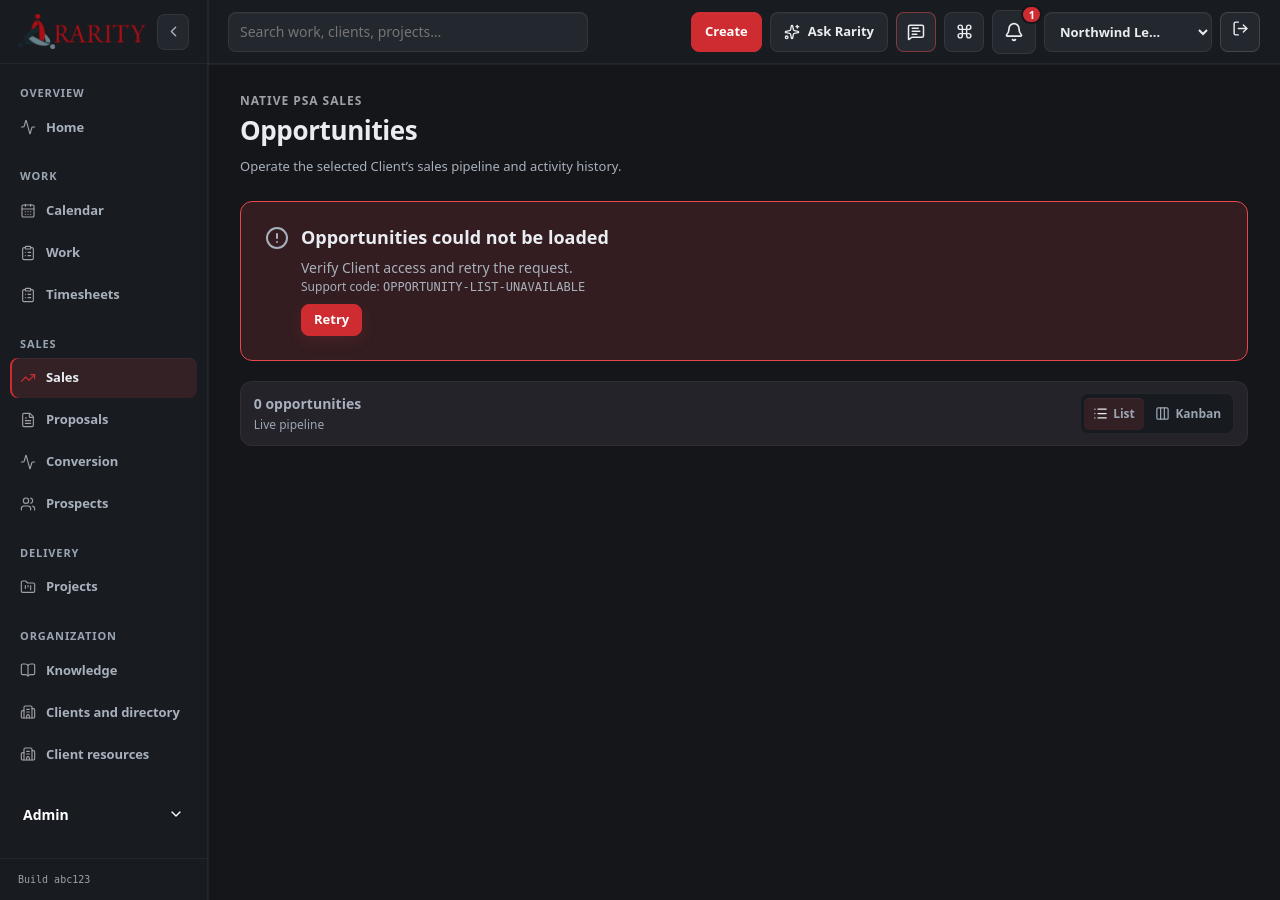
App › navigates to the reviewed conversion workflow
The image size is (1280, 900).
Click the link "Conversion" at point(69, 461), box [20, 452, 118, 470]
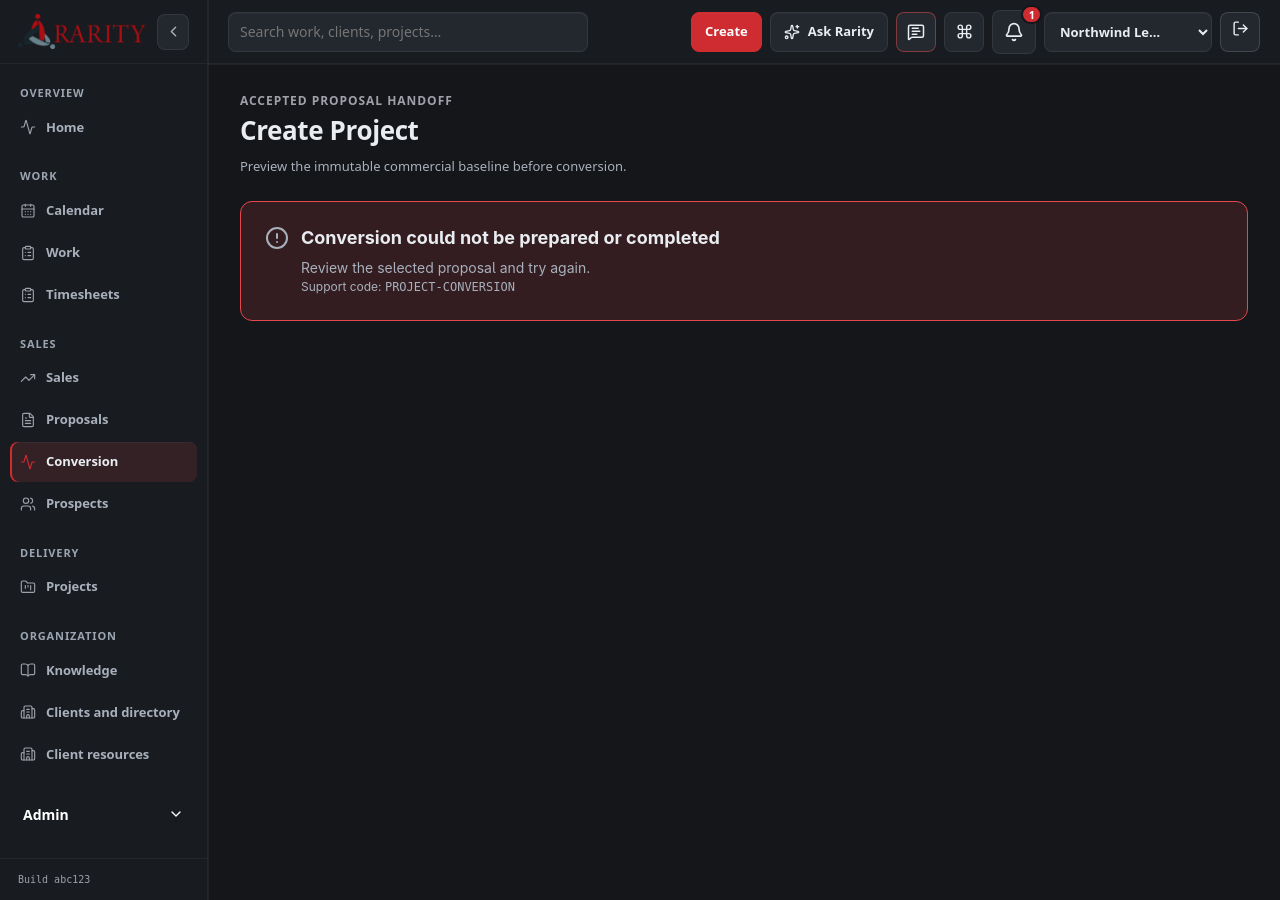
Check: the heading "Create Project" is shown, box [240, 112, 418, 148]
